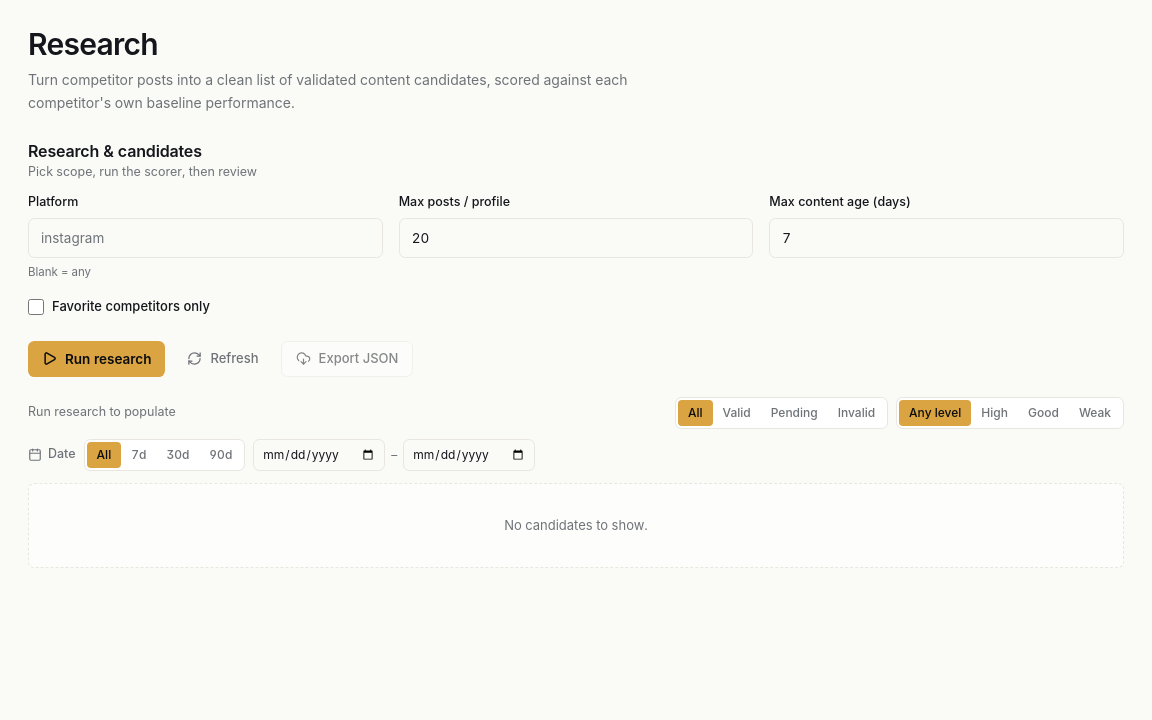
Test: <ResearchPage> › narrows visible candidates with the date preset filter
Click the button "Run research" at coordinates (97, 359), box [28, 341, 166, 377]
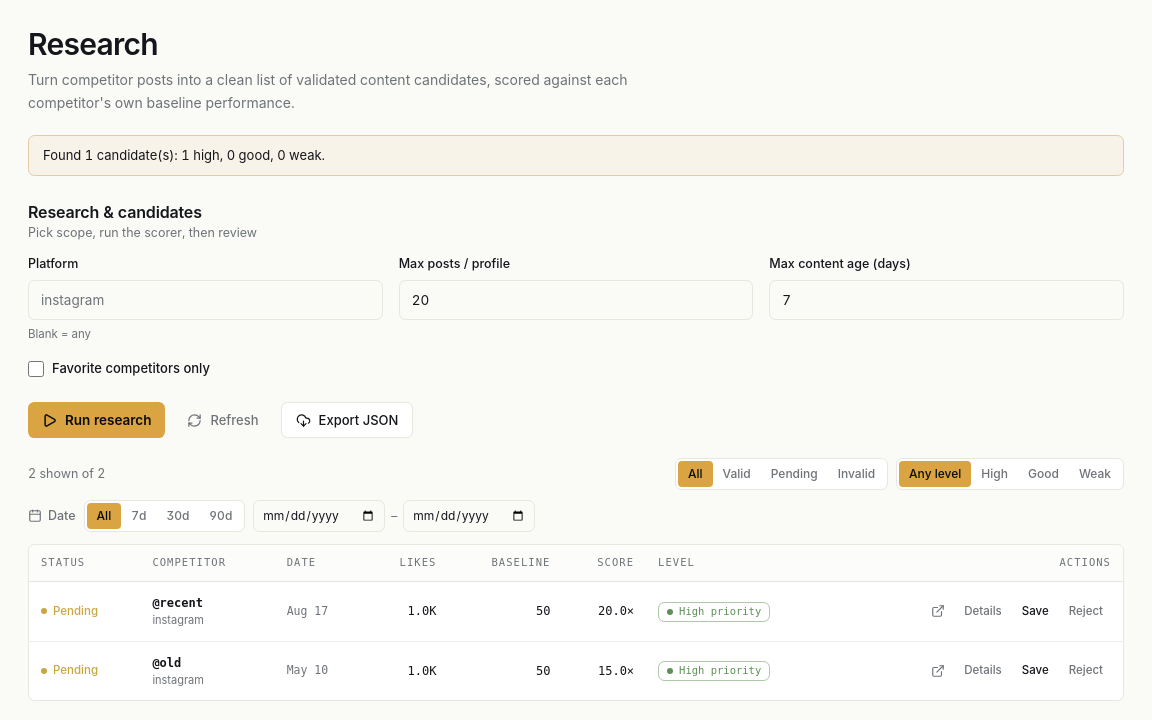
Result: the text "@recent" is shown at [152, 596, 203, 610]
Result: the text "@old" is shown at [152, 656, 181, 670]
Restricting to the last 7 days drops the 100-day-old post.
Click the button "7d" at coordinates (139, 516), box [121, 503, 156, 529]
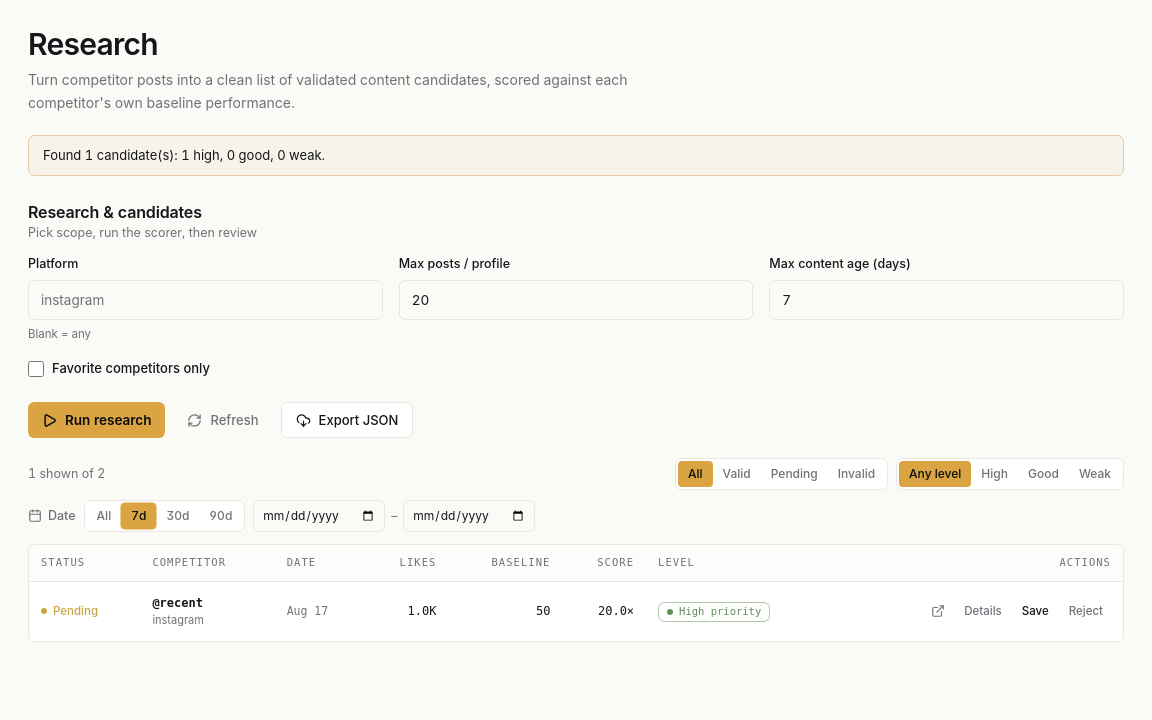
Result: the text "@recent" is shown at [152, 596, 203, 610]
Result: the text "@old" is gone
